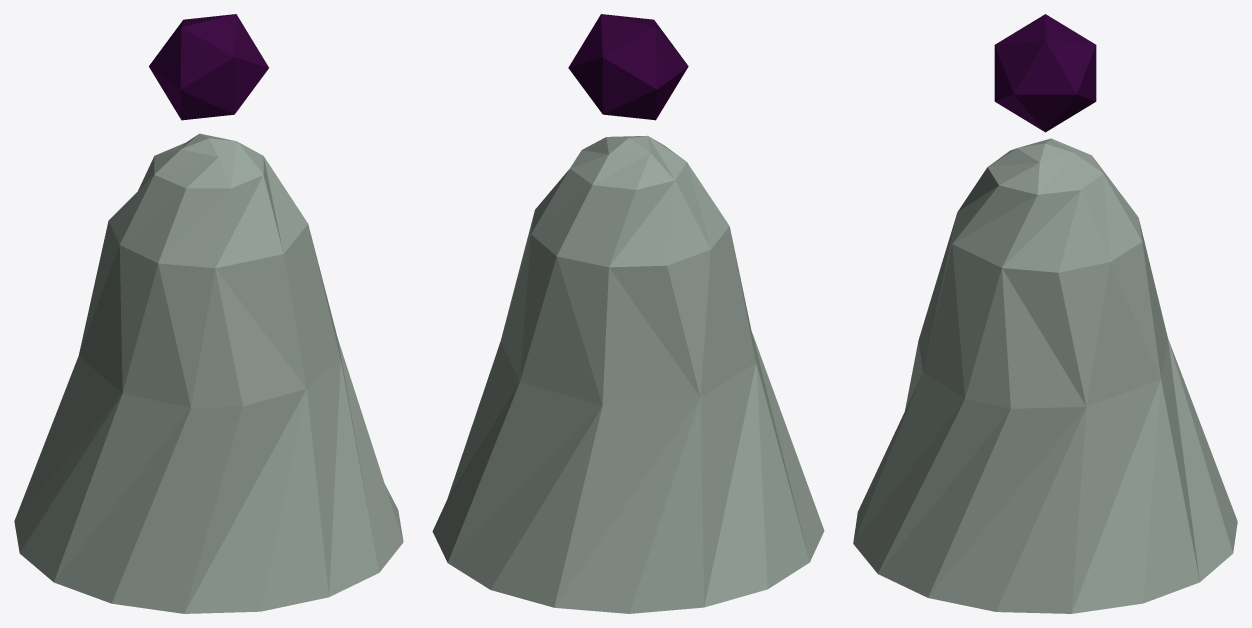
The model's file is Low Poly Pillar.fbx.
3 views of the same model, side by side, from view 1: azimuth 30°, elevation 25°; view 2: azimuth 150°, elevation 25°; view 3: azimuth 270°, elevation 25° (orthographic).
Parts seen in each view (by area): view 1: Pillar, Beacon; view 2: Pillar, Beacon; view 3: Pillar, Beacon.
Part boxes in pixels (x1,y1,x2,y2): Pillar: (14,133,403,613); Beacon: (149,14,268,120); Pillar: (432,135,824,613); Beacon: (568,14,688,120); Pillar: (853,138,1237,613); Beacon: (994,14,1096,132).
Bounding box in the file's own units: 183 × 276 × 183.
